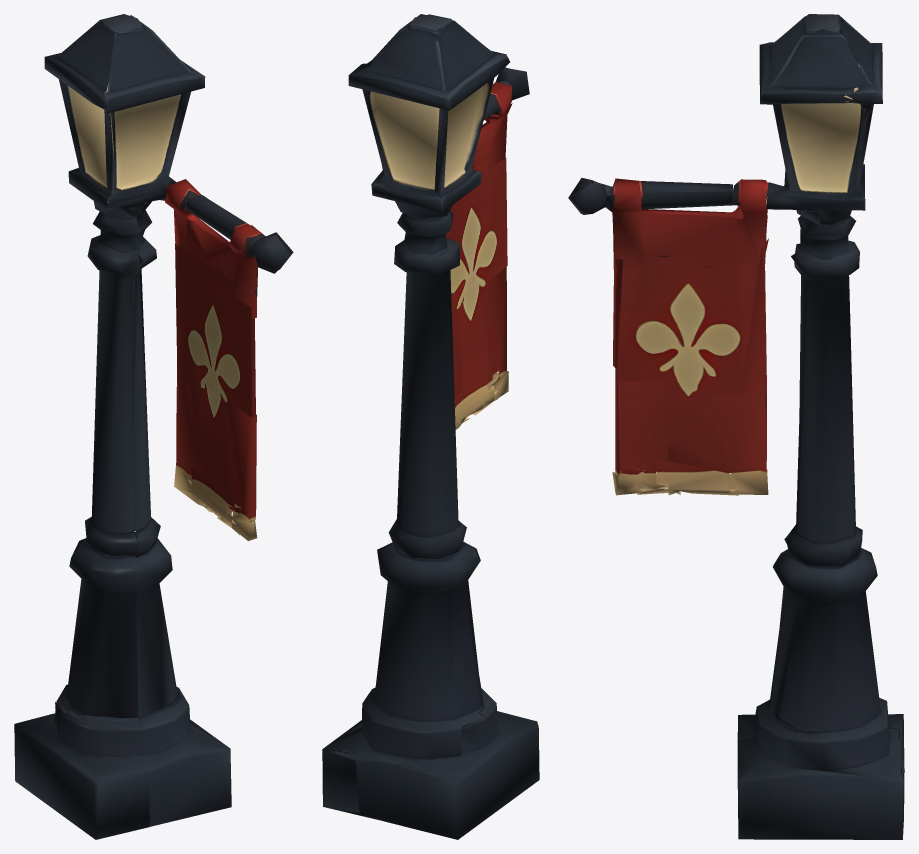
3 views of the same model, side by side, from view 1: azimuth 30°, elevation 25°; view 2: azimuth 150°, elevation 25°; view 3: azimuth 270°, elevation 25° (orthographic).
Visible parts, largest first — view 1: quad; view 2: quad; view 3: quad.
Part boxes in pixels (left/top/right/bottom): quad: left=14, top=14, right=293, bottom=839; quad: left=322, top=14, right=539, bottom=839; quad: left=568, top=14, right=904, bottom=839.
Bounding box in the file's own units: 73.93 × 400 × 155.
1 material, 1 textured.
